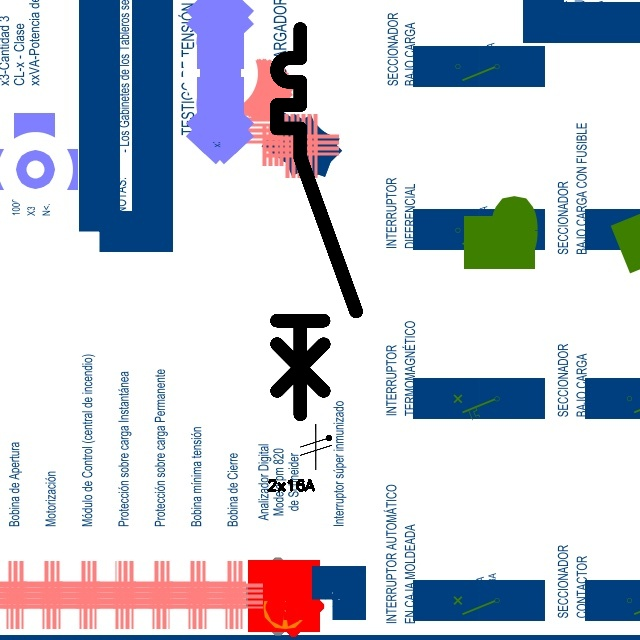interruptor_termomagnetico: (267, 19, 366, 424)
